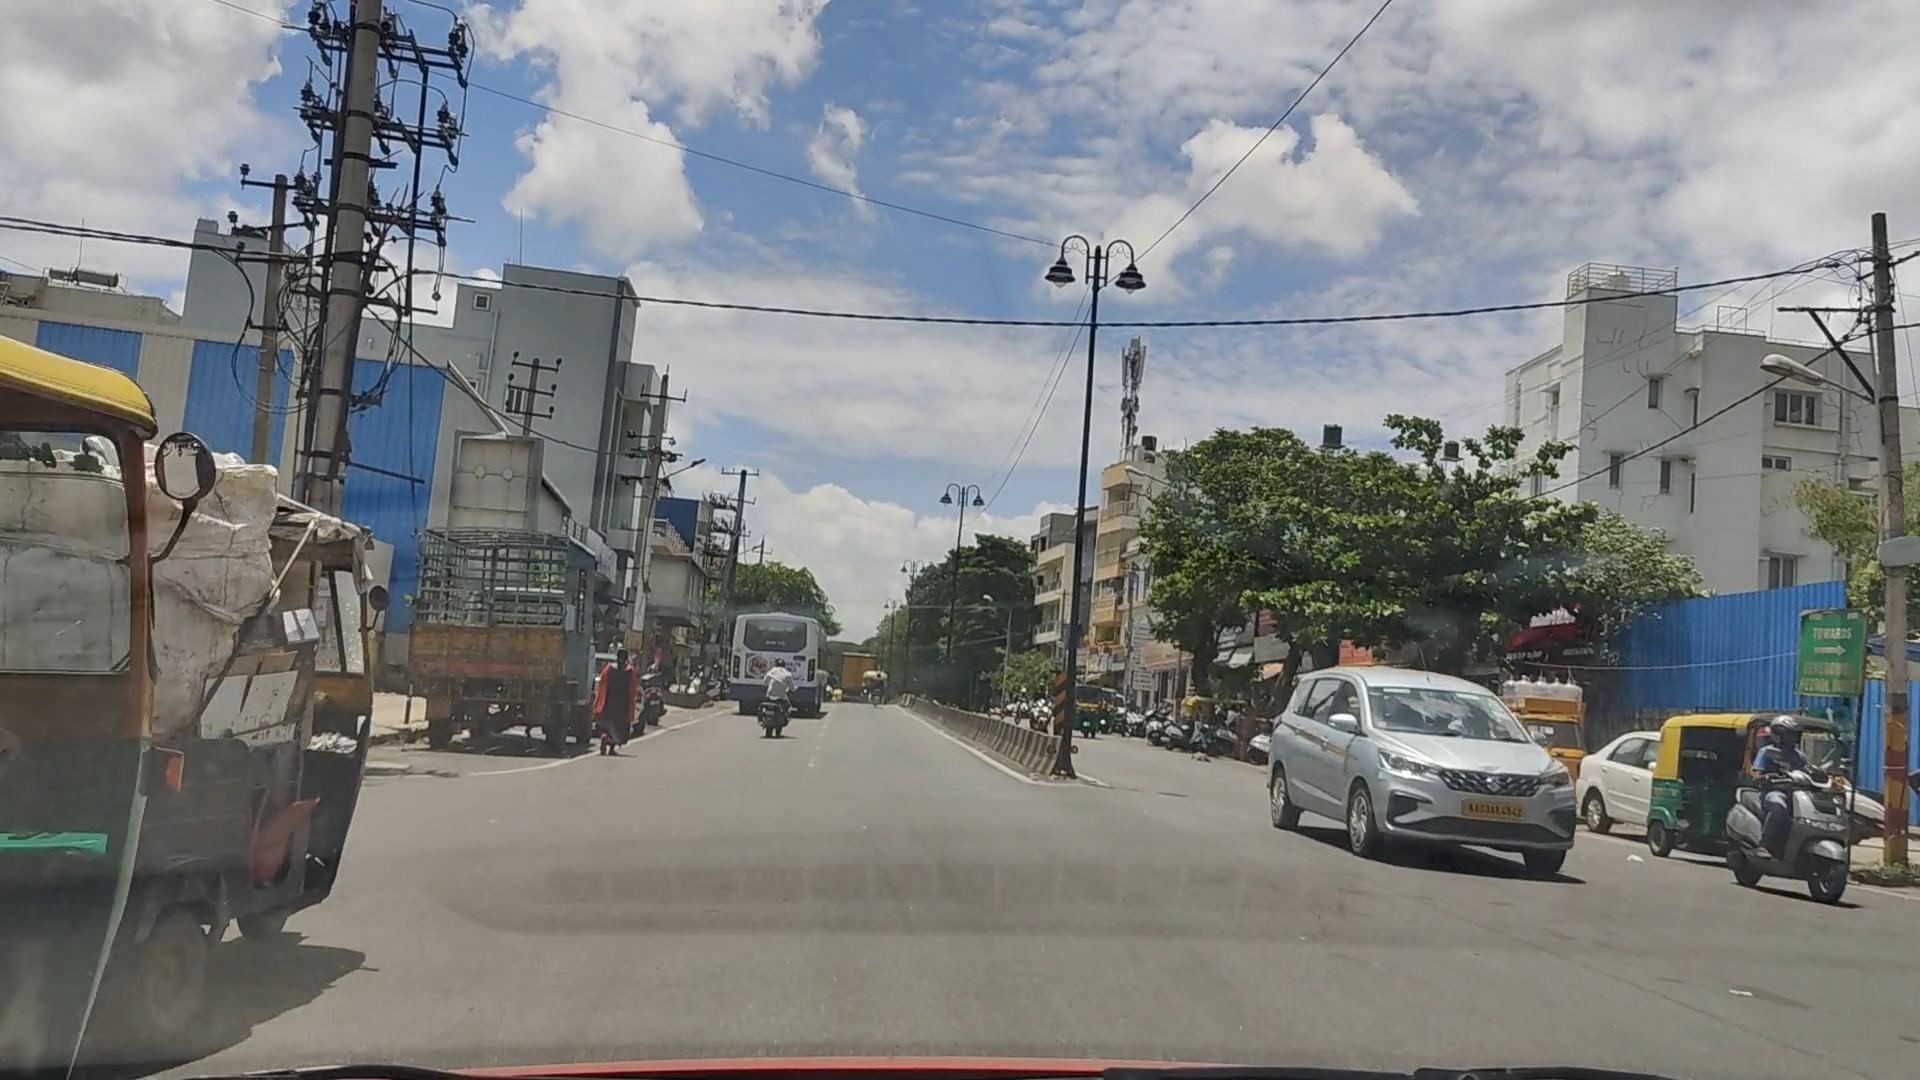LMV: (8, 357, 388, 1052)
